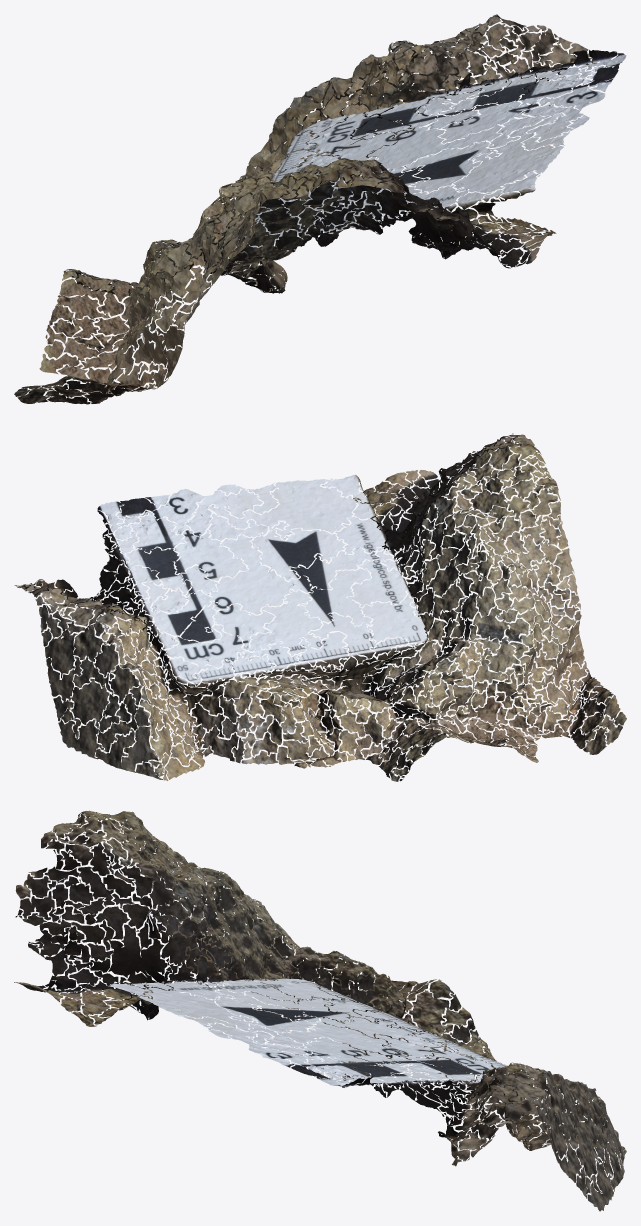
File: gst4.glb
3 views of the same model, one above another, from view 1: azimuth 30°, elevation 25°; view 2: azimuth 150°, elevation 25°; view 3: azimuth 270°, elevation 25° (orthographic). The views are drawn at different scales.
Bounding box in the file's own units: 3.55 × 1.36 × 2.94.
1 material, 1 textured.
